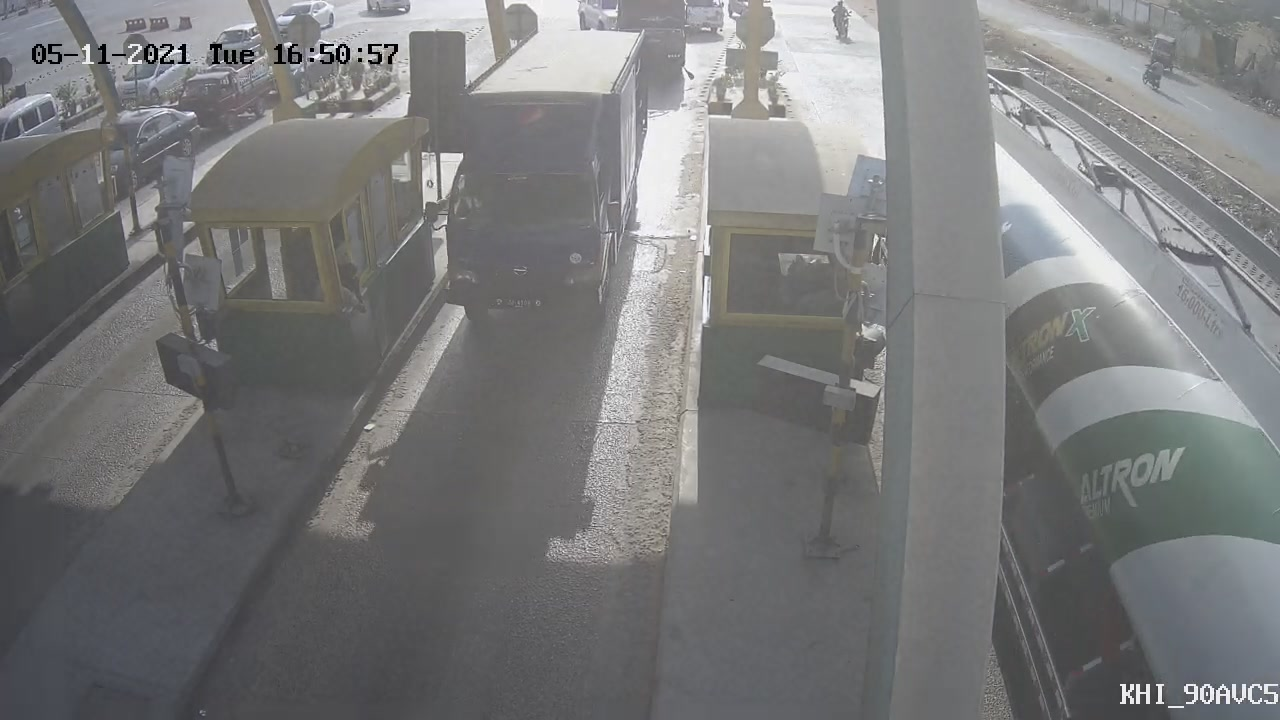F5: (412, 17, 672, 353)
